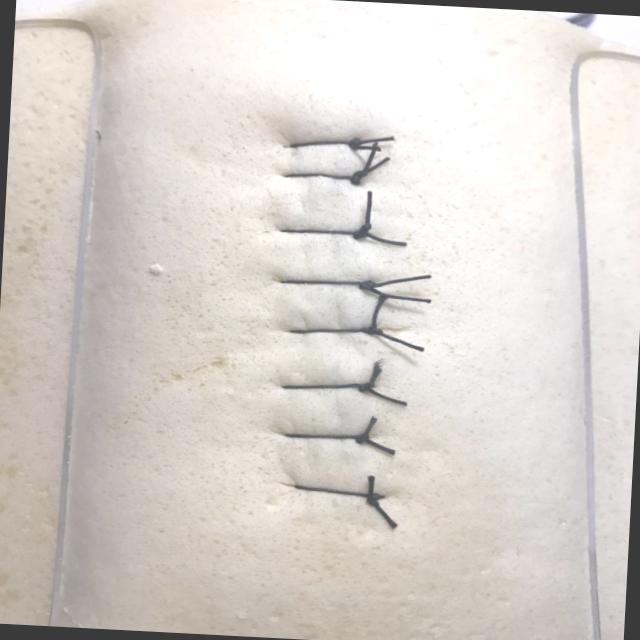knot: (353, 223, 371, 239), (351, 171, 367, 185), (367, 494, 383, 507), (348, 138, 362, 150), (358, 382, 374, 392), (360, 281, 376, 290), (362, 328, 382, 335), (357, 434, 368, 444)
leftover: (360, 282, 433, 303), (370, 328, 426, 353), (366, 493, 399, 530), (362, 383, 409, 406), (368, 274, 434, 288), (355, 141, 378, 179), (355, 155, 391, 179), (358, 435, 397, 456), (358, 231, 409, 246), (370, 293, 386, 333), (362, 188, 373, 236), (349, 136, 396, 145), (360, 416, 377, 440), (349, 140, 383, 151), (366, 363, 380, 387), (367, 474, 375, 498)
stitch: (291, 484, 387, 500), (278, 279, 378, 288), (279, 382, 376, 390), (282, 432, 372, 440), (281, 172, 363, 180), (278, 229, 369, 236), (287, 140, 364, 148), (286, 328, 383, 334)
wound: (328, 125, 345, 518)
